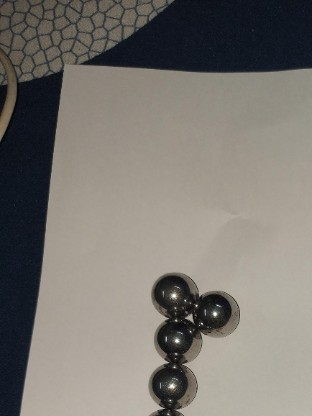ironball: (146, 364, 200, 408), (150, 271, 199, 318), (152, 317, 201, 364), (195, 291, 245, 337)
